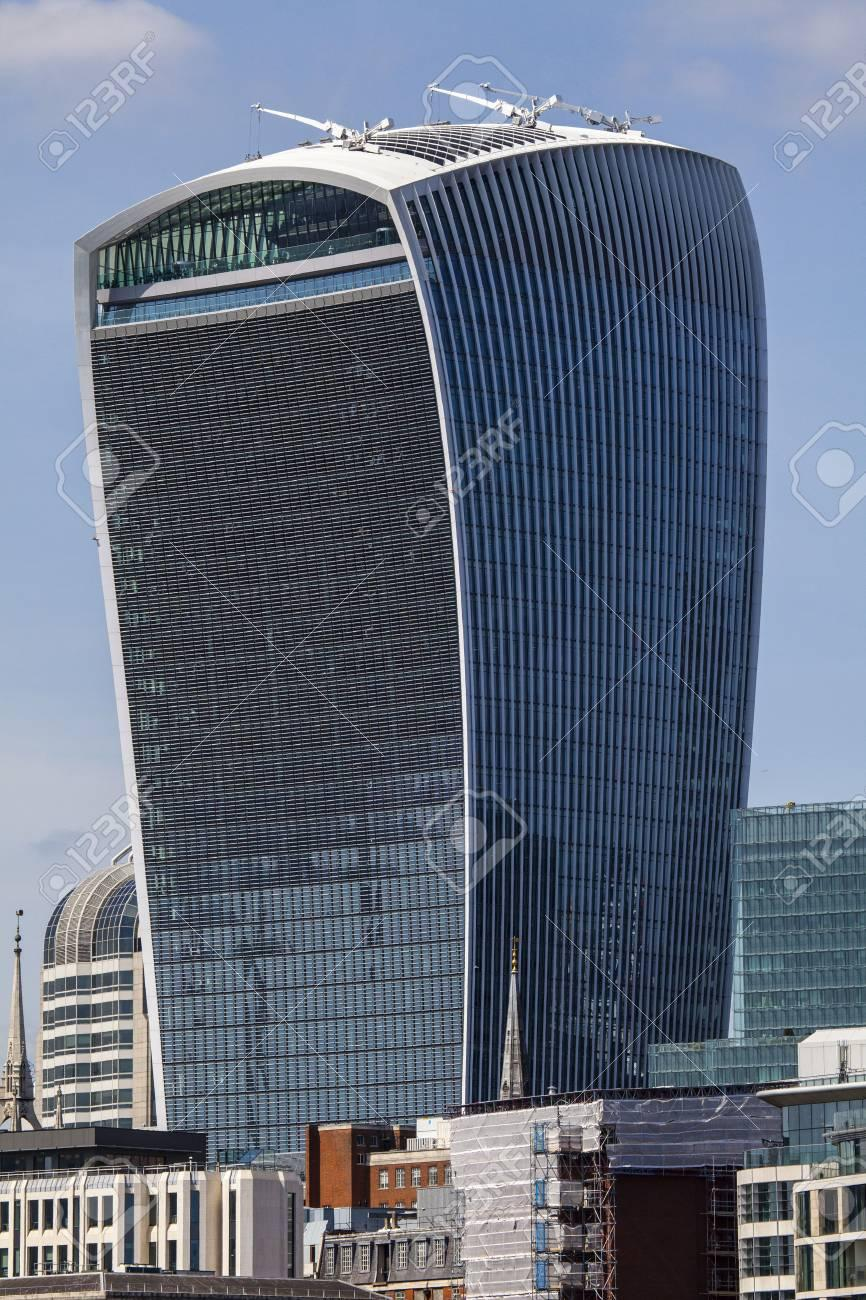Walkie talkie: (58, 104, 784, 1081)
